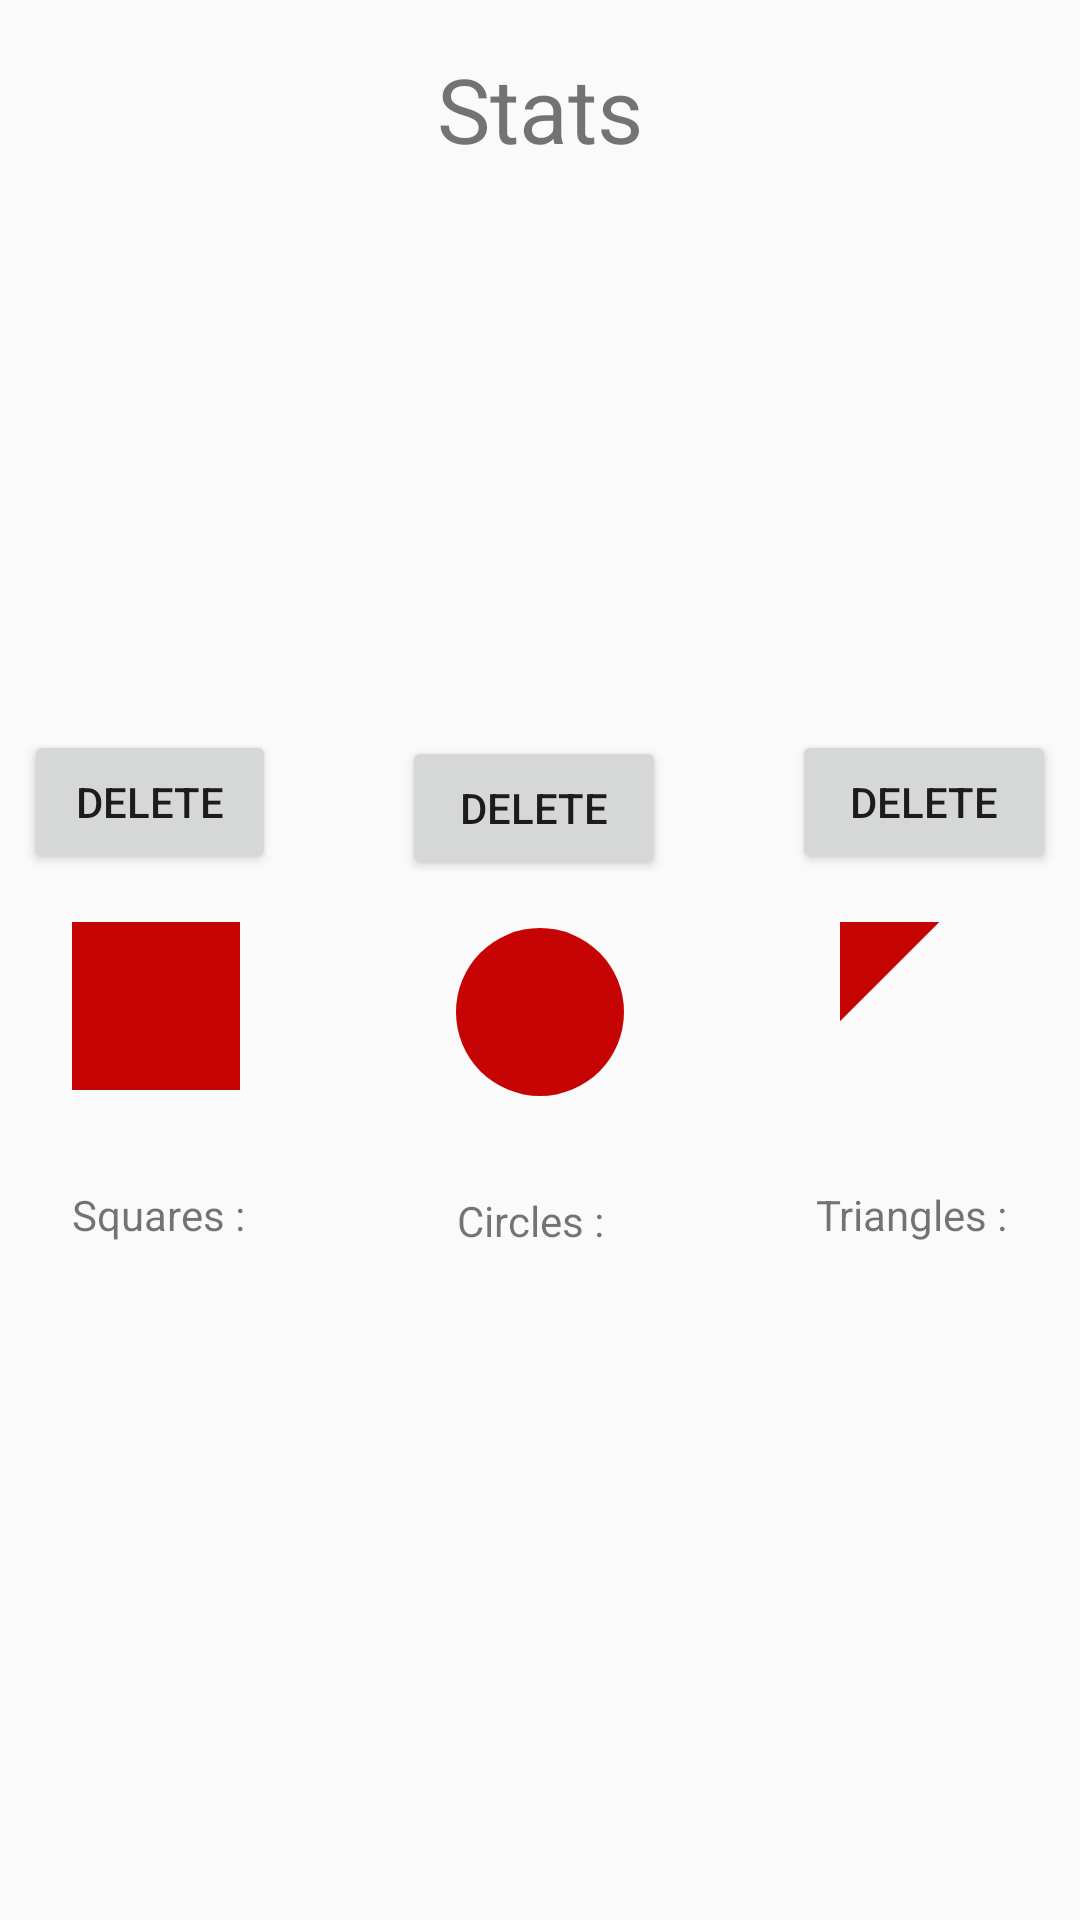

Where to tap for icons on this 1080×1920 app screen, as [x,y]:
shape circle: [540,1012]
shape triangle: [889,971]
